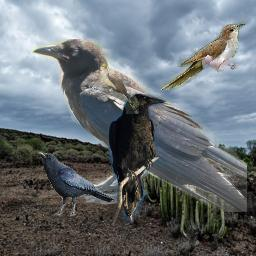Crow: (31, 39, 247, 212), (108, 93, 167, 224), (37, 152, 114, 217)
Cuckoo: (159, 22, 245, 90), (100, 63, 139, 114)
